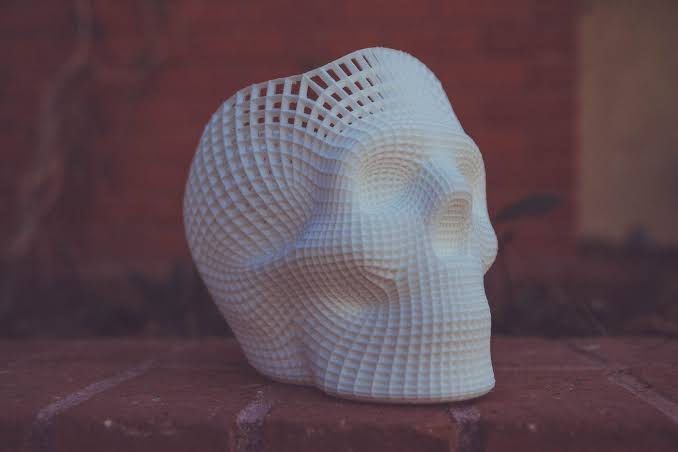3d print: (184, 48, 496, 402)
